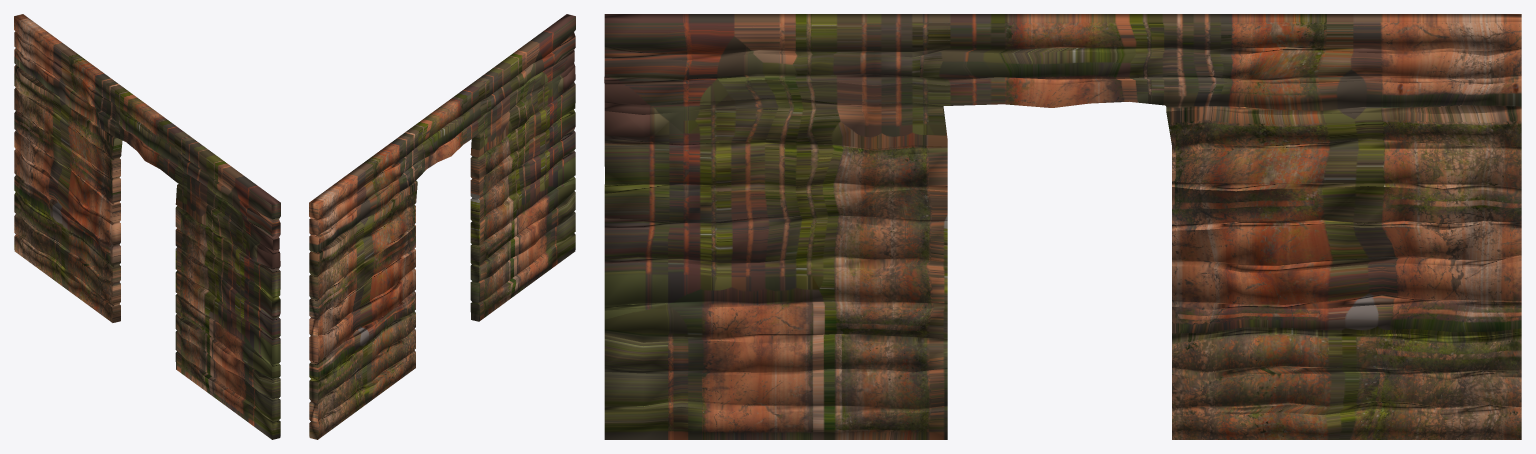
The model's file is OLOLOLO.fbx.
3 views of the same model, side by side, from view 1: azimuth 30°, elevation 25°; view 2: azimuth 150°, elevation 25°; view 3: azimuth 270°, elevation 25° (orthographic). The views are drawn at different scales.
Visible parts, largest first — view 1: WallwDoor; view 2: WallwDoor; view 3: WallwDoor.
Boxes of the visible parts, x1,y1,x2,y2 form: WallwDoor: [14, 14, 280, 439]; WallwDoor: [309, 14, 575, 439]; WallwDoor: [604, 14, 1521, 439].
Size of the model in its own units: 16.84 by 219 by 436.
